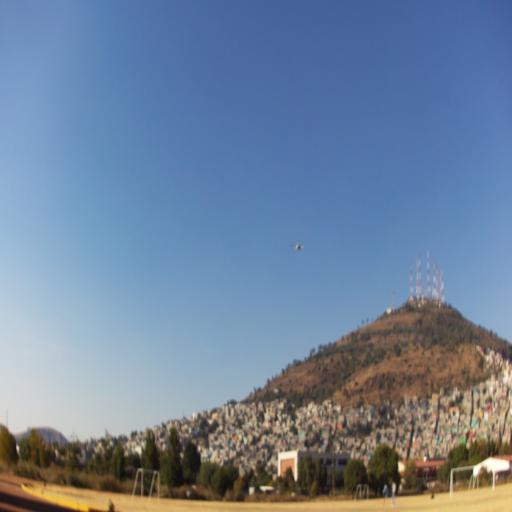drones: (290, 241, 306, 253)
